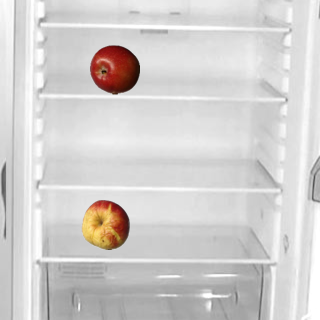Apple Braeburn: (89, 44, 139, 94)
Apple Red Yellow 1: (80, 199, 130, 249)
